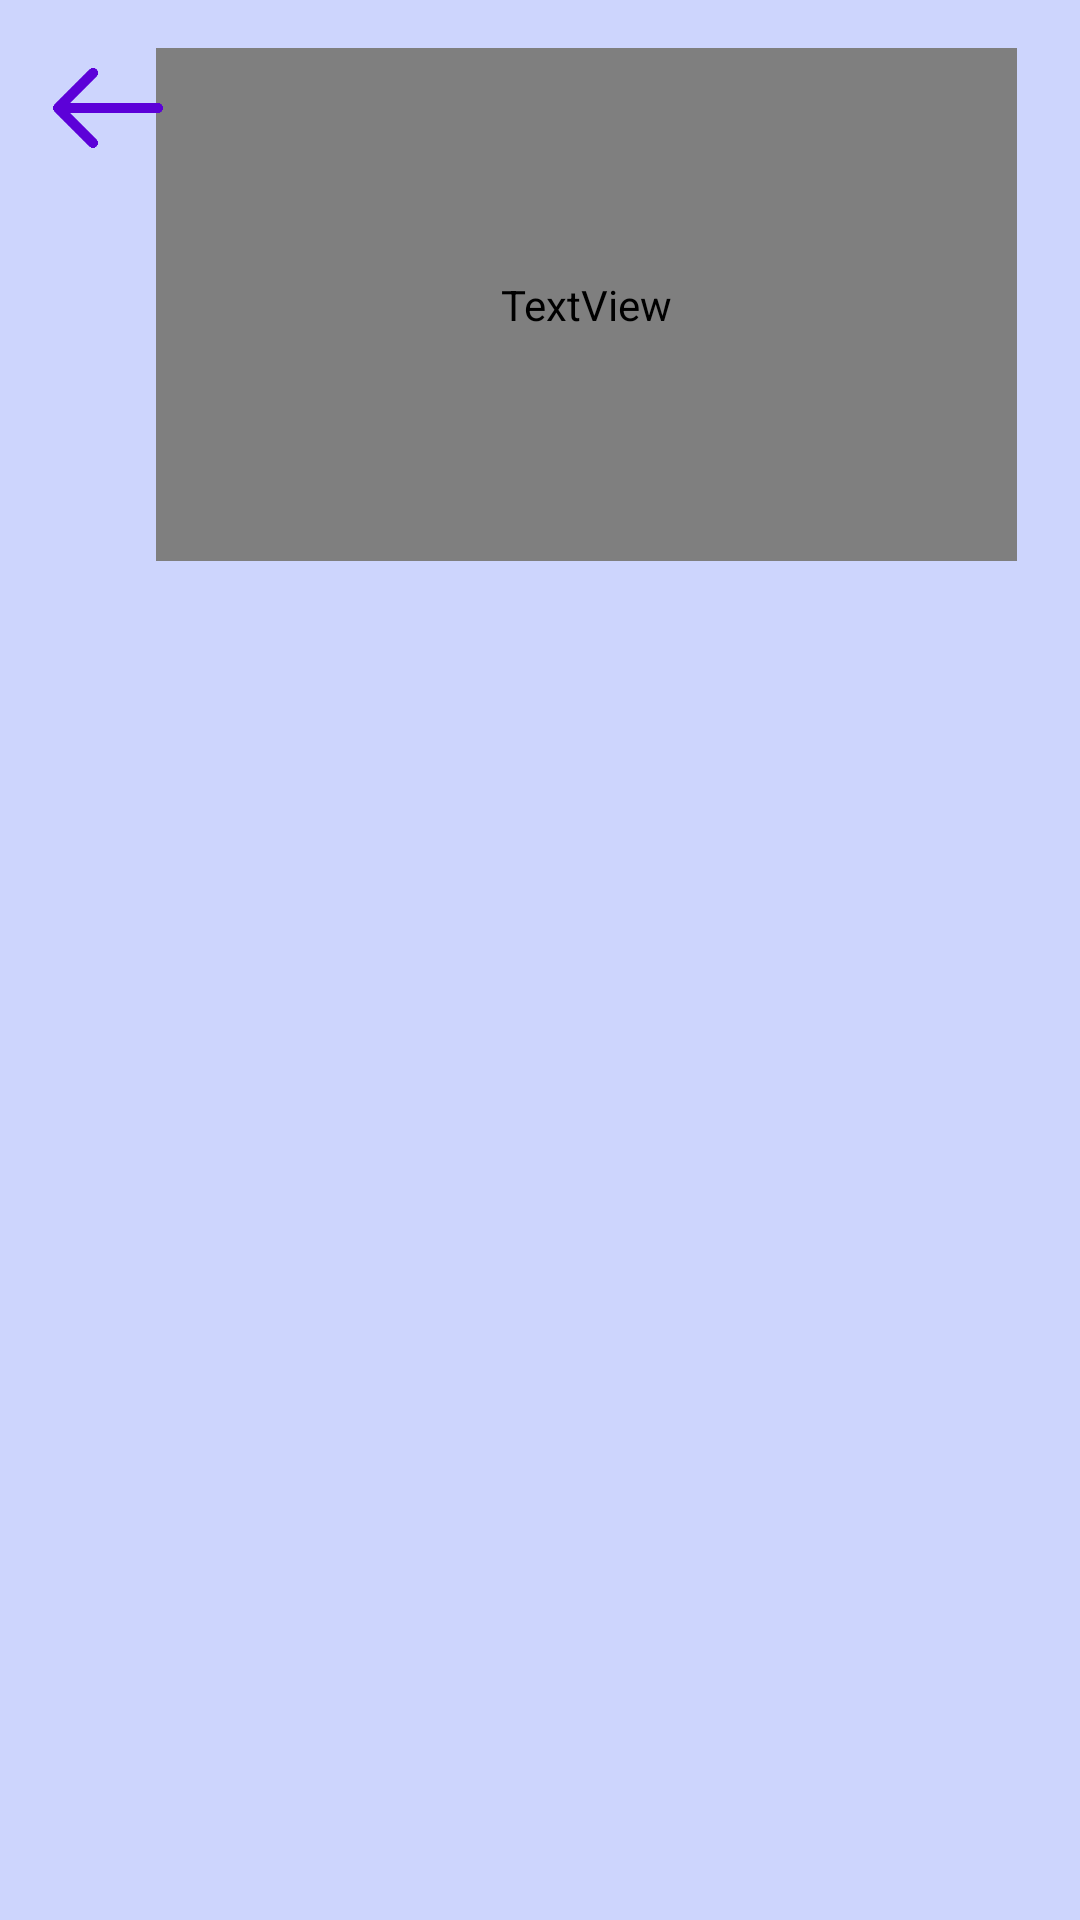

Screen size 1080×1920. Icon name, then its center in pixels as point (x, y):
back: point (110, 108)
